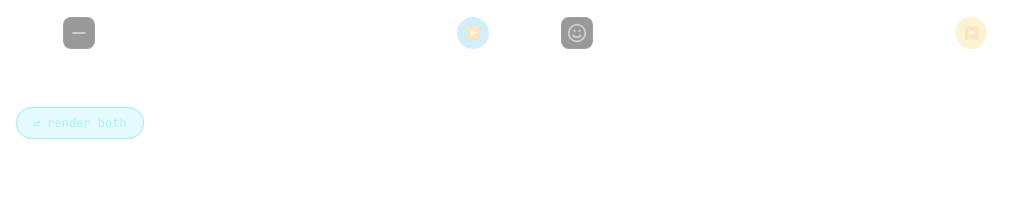
Test: EmotionAB › treats backpressure as a wait, keeping whatever already rendered
Click the button "⇄ render both": (80, 123) [16,107,144,139]
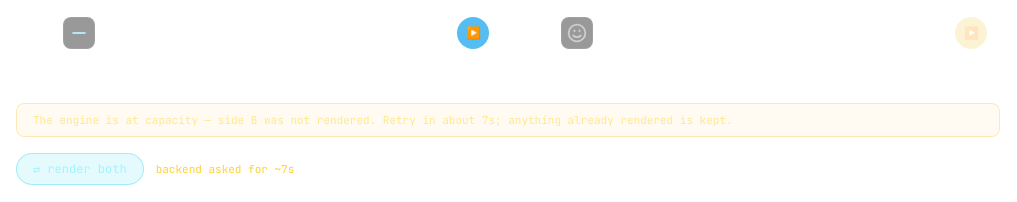
Expected: the button named "play side B" is disabled, [955,17,987,49]
Now the text "engine is at capacity — side B was not rendered" is shown, box [33,113,733,127]
Now the button named "play side A" is enabled, box [457,17,489,49]
